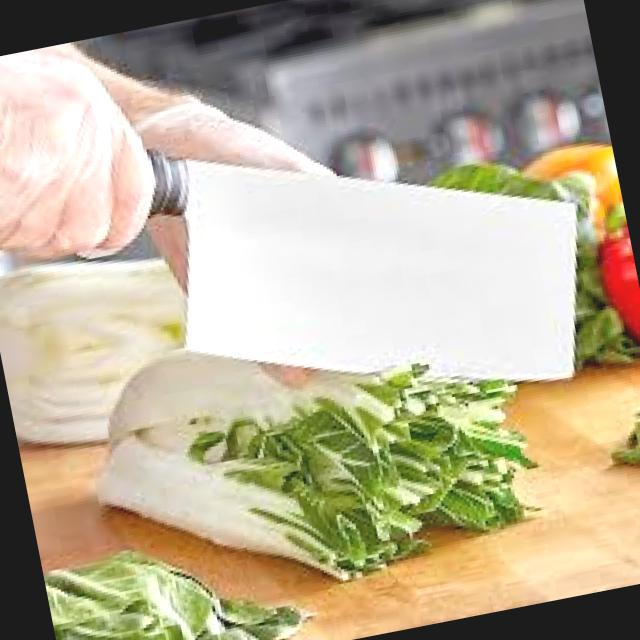cleaver: (0, 0, 612, 474)
